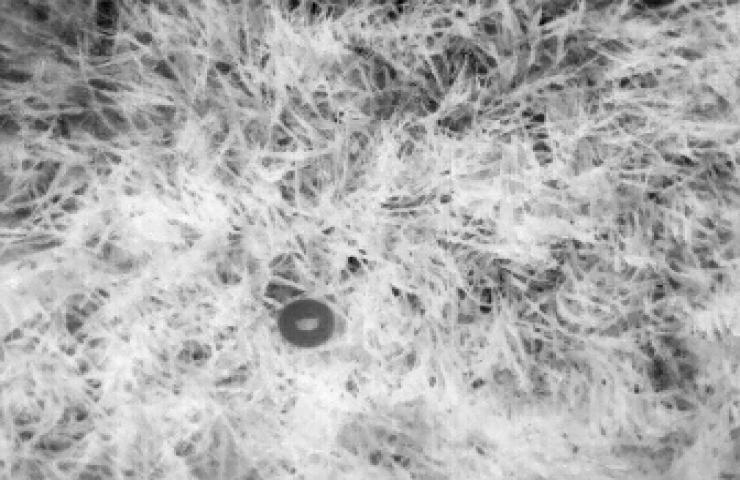landmines: (270, 292, 345, 350)
